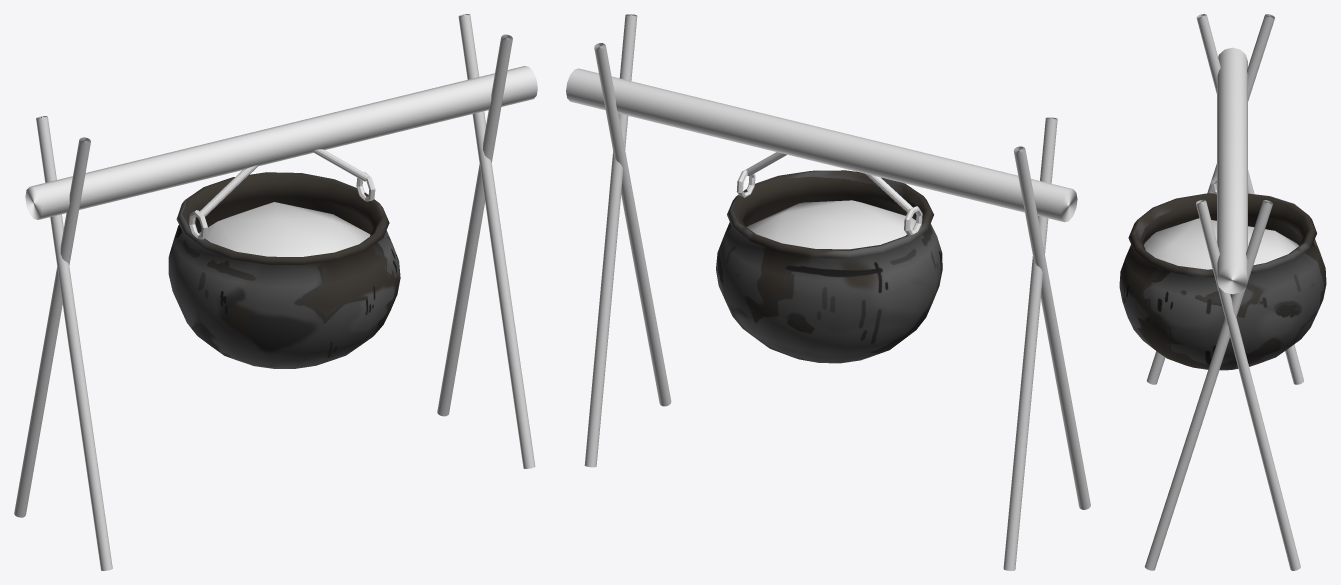
The model's file is SoupPot.fbx.
3 renders of one model, left to right at view 1: azimuth 30°, elevation 25°; view 2: azimuth 150°, elevation 25°; view 3: azimuth 270°, elevation 25°, orthographic. The views are drawn at different scales.
Parts seen in each view (by area): view 1: Sphere, Cylinder.004, Icosphere, Cylinder.002, Cylinder.001, Cylinder.003, Cylinder; view 2: Sphere, Cylinder.004, Icosphere, Cylinder, Cylinder.003, Cylinder.001, Cylinder.002; view 3: Sphere, Cylinder.004, Cylinder.003, Cylinder.002, Icosphere, Cylinder.001, Cylinder.
Boxes of the visible parts, box(x1,y1,x2,y2) form: Sphere: box(168, 172, 400, 368); Cylinder.004: box(25, 66, 537, 219); Icosphere: box(199, 202, 370, 256); Cylinder.002: box(458, 14, 535, 468); Cylinder.001: box(36, 116, 112, 570); Cylinder.003: box(437, 34, 512, 416); Cylinder: box(14, 137, 90, 517); Sphere: box(716, 170, 942, 363); Cylinder.004: box(566, 68, 1077, 222); Icosphere: box(746, 200, 915, 249); Cylinder: box(1003, 117, 1057, 570); Cylinder.003: box(584, 14, 637, 467); Cylinder.001: box(1013, 146, 1090, 509); Cylinder.002: box(594, 43, 671, 406); Sphere: box(1119, 193, 1326, 370); Cylinder.004: box(1217, 47, 1247, 294); Cylinder.003: box(1196, 199, 1300, 570); Cylinder.002: box(1144, 200, 1272, 570); Icosphere: box(1144, 218, 1298, 269); Cylinder.001: box(1146, 14, 1274, 384); Cylinder: box(1196, 14, 1303, 384).
Size of the model in its own units: 514 by 409 by 206.
